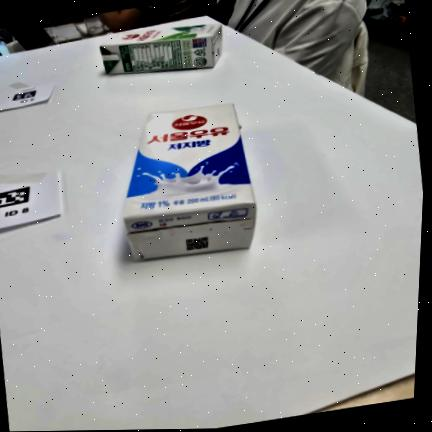milk_blue: (124, 102, 256, 261)
milk_green: (99, 22, 223, 74)
